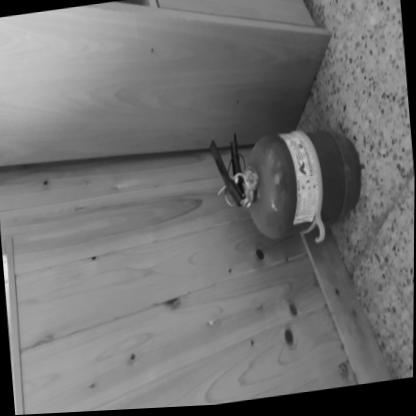FE: (207, 122, 365, 251)
